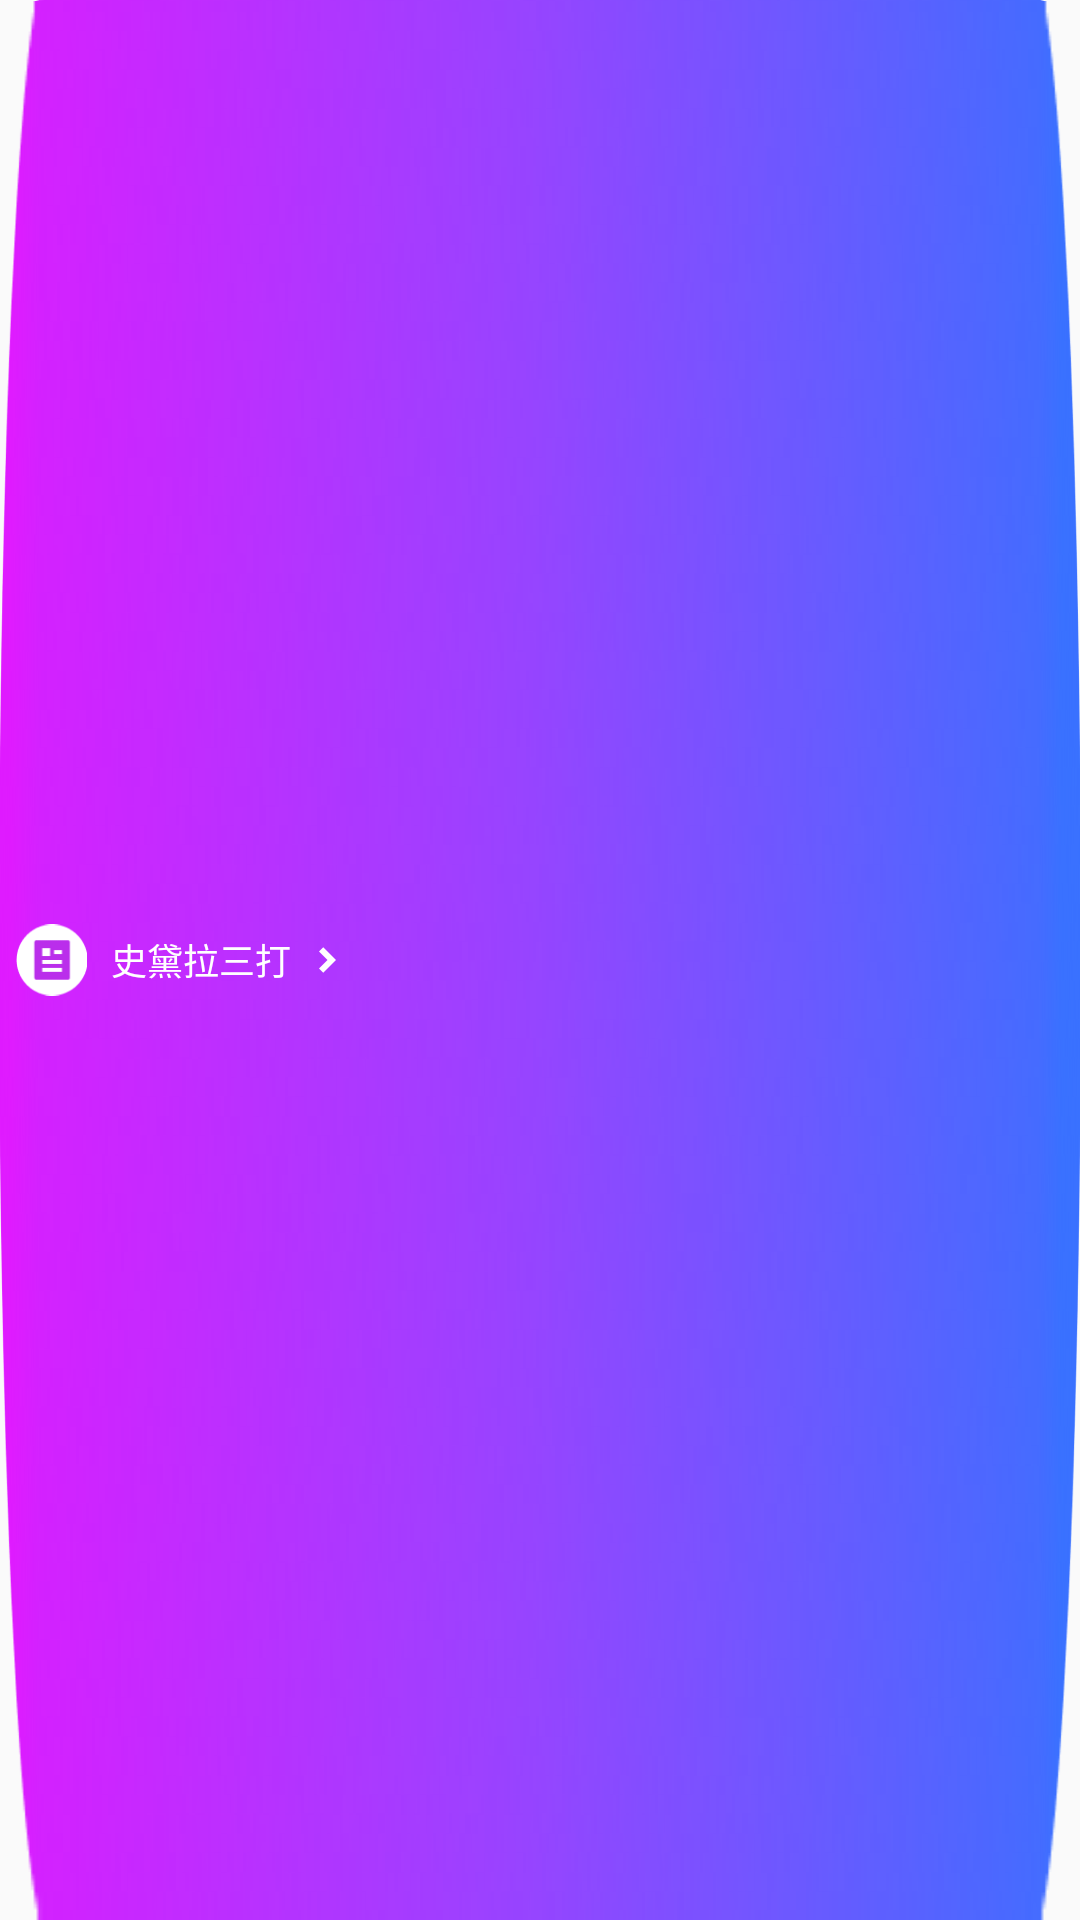

Icons on this 1080x1920 Android screen, each with its box as (x1, y1, x2, y2):
arrow: (319, 947, 336, 973)
